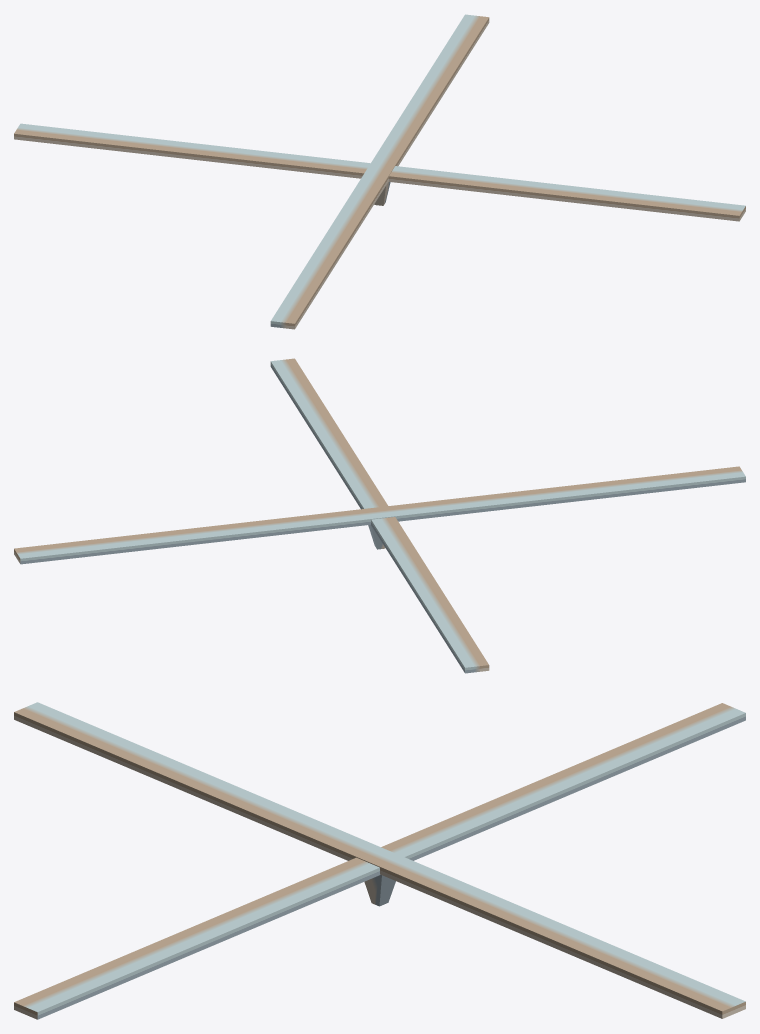
The model's file is BossLv1HeliWings.fbx.
The picture shows the model from 3 angles, top to bottom: view 1: azimuth 30°, elevation 25°; view 2: azimuth 150°, elevation 25°; view 3: azimuth 270°, elevation 25°; orthographic projection. The views are drawn at different scales.
Visible parts, largest first — view 1: BossLv1HeliWings; view 2: BossLv1HeliWings; view 3: BossLv1HeliWings.
Boxes of the visible parts, box(x1,y1,x2,y2) form: BossLv1HeliWings: box(14, 14, 745, 329); BossLv1HeliWings: box(14, 358, 745, 673); BossLv1HeliWings: box(14, 702, 745, 1019).
Bounding box in the file's own units: 2630 × 183 × 2630.
